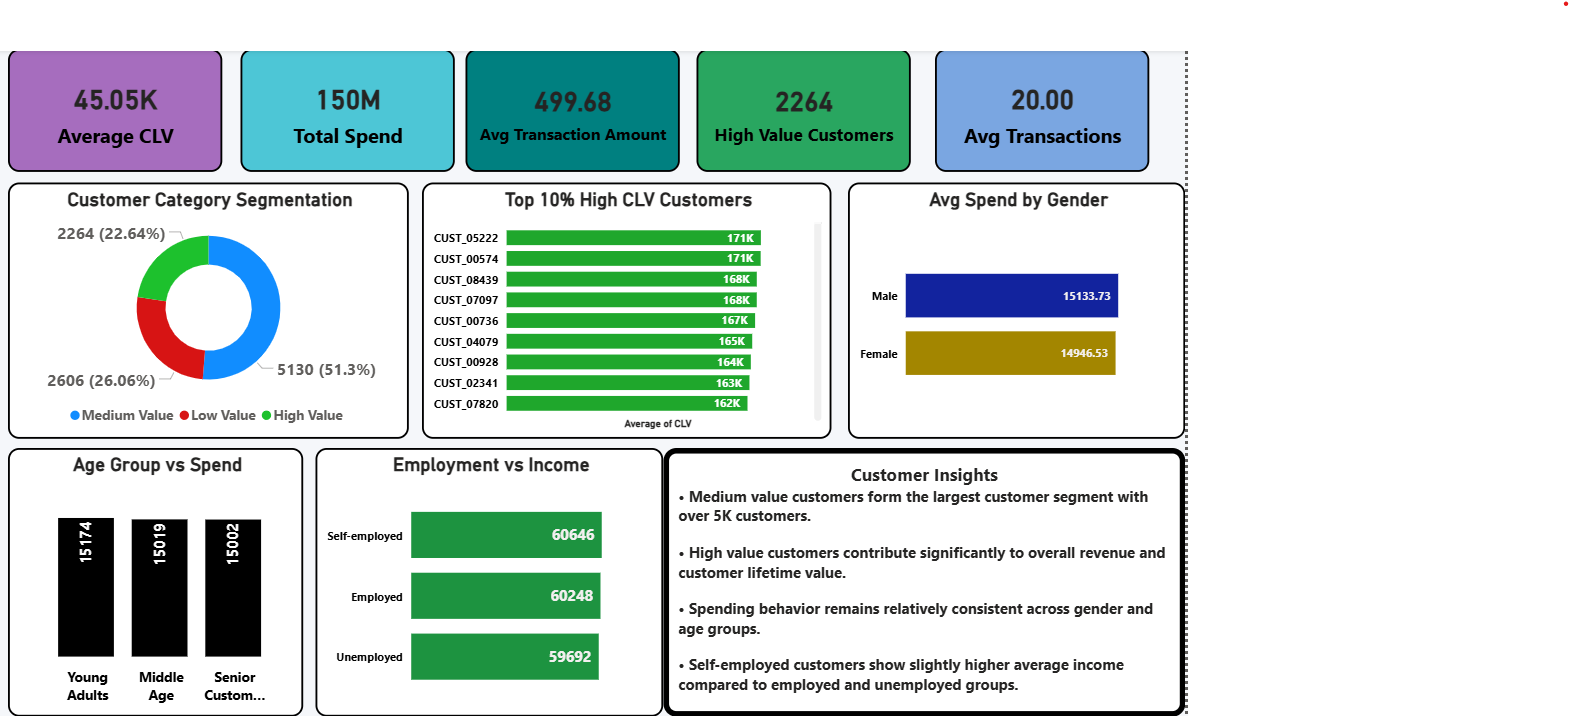

This screenshot's page, from the dashboard's own definition file:
{"tool":"powerbi","page":{"name":"Customer Segmentation","canvas":[1280,720],"ordinal":2},"visuals":[{"type":"card","fields":{"Values":["bank bank_analysis.Average CLV"]},"box":[9.7,0,231.5,132.8],"z":0},{"type":"card","fields":{"Values":["bank bank_analysis.Total Spend"]},"box":[260.7,0,231.5,132.8],"z":1000},{"type":"card","fields":{"Values":["bank bank_analysis.Avg Transaction Amount"]},"box":[503.6,0,231.5,132.8],"z":2000},{"type":"card","fields":{"Values":["bank bank_analysis.High Value Customers"]},"box":[752.9,0,231.5,132.8],"z":3000},{"type":"card","fields":{"Values":["bank bank_analysis.Avg Transactions"]},"box":[1010.4,0,231.5,132.8],"z":4000},{"type":"donutChart","title":"Customer Category Segmentation","fields":{"Category":["bank bank_analysis.Customer Category"],"Y":["bank bank_analysis.Total Customers"]},"box":[9.7,144.1,432.3,276.9],"z":5000},{"type":"clusteredBarChart","title":"Top 10% High CLV Customers","fields":{"Category":["bank bank_analysis.Customer_ID"],"Y":["Avg(bank bank_analysis.CLV)"]},"box":[456.6,144.1,442,276.9],"z":6000},{"type":"clusteredBarChart","title":"Avg Spend by Gender","fields":{"Category":["bank bank_analysis.Gender"],"Y":["Avg(bank bank_analysis.Total_Spend_Last_Year)"]},"box":[916.5,144.1,364.3,276.9],"z":7000},{"type":"clusteredColumnChart","title":"Age Group vs Spend","fields":{"Category":["bank bank_analysis.Age Group"],"Y":["Avg(bank bank_analysis.Total_Spend_Last_Year)"]},"box":[9.7,430.7,319,289.8],"z":8000},{"type":"clusteredBarChart","title":"Employment vs Income","fields":{"Category":["bank bank_analysis.Employment_Status"],"Y":["Avg(bank bank_analysis.Annual_Income)"]},"box":[341.7,430.7,375.7,289.8],"z":9000},{"type":"textbox","box":[717.3,430.7,563.5,289.8],"z":10000}]}

Visuals, with their boxes on the page's 1280x720 design canvas (x1, y1, x2, y2). These are canvas units, not pixel positions in the 1569x716 screenshot, which may show the page scaled, cropped or inside an application window:
card - bank bank_analysis.Average CLV: {"left": 10, "top": 0, "right": 241, "bottom": 133}
card - bank bank_analysis.Total Spend: {"left": 261, "top": 0, "right": 492, "bottom": 133}
card - bank bank_analysis.Avg Transaction Amount: {"left": 504, "top": 0, "right": 735, "bottom": 133}
card - bank bank_analysis.High Value Customers: {"left": 753, "top": 0, "right": 984, "bottom": 133}
card - bank bank_analysis.Avg Transactions: {"left": 1010, "top": 0, "right": 1242, "bottom": 133}
"Customer Category Segmentation" donutChart: {"left": 10, "top": 144, "right": 442, "bottom": 421}
"Top 10% High CLV Customers" clusteredBarChart: {"left": 457, "top": 144, "right": 899, "bottom": 421}
"Avg Spend by Gender" clusteredBarChart: {"left": 916, "top": 144, "right": 1281, "bottom": 421}
"Age Group vs Spend" clusteredColumnChart: {"left": 10, "top": 431, "right": 329, "bottom": 720}
"Employment vs Income" clusteredBarChart: {"left": 342, "top": 431, "right": 717, "bottom": 720}
textbox: {"left": 717, "top": 431, "right": 1281, "bottom": 720}
